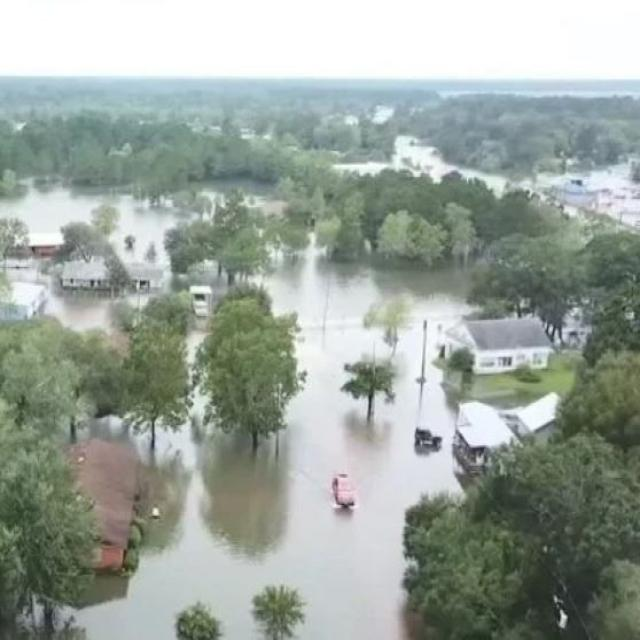flooded_areas: (0, 172, 604, 611)
